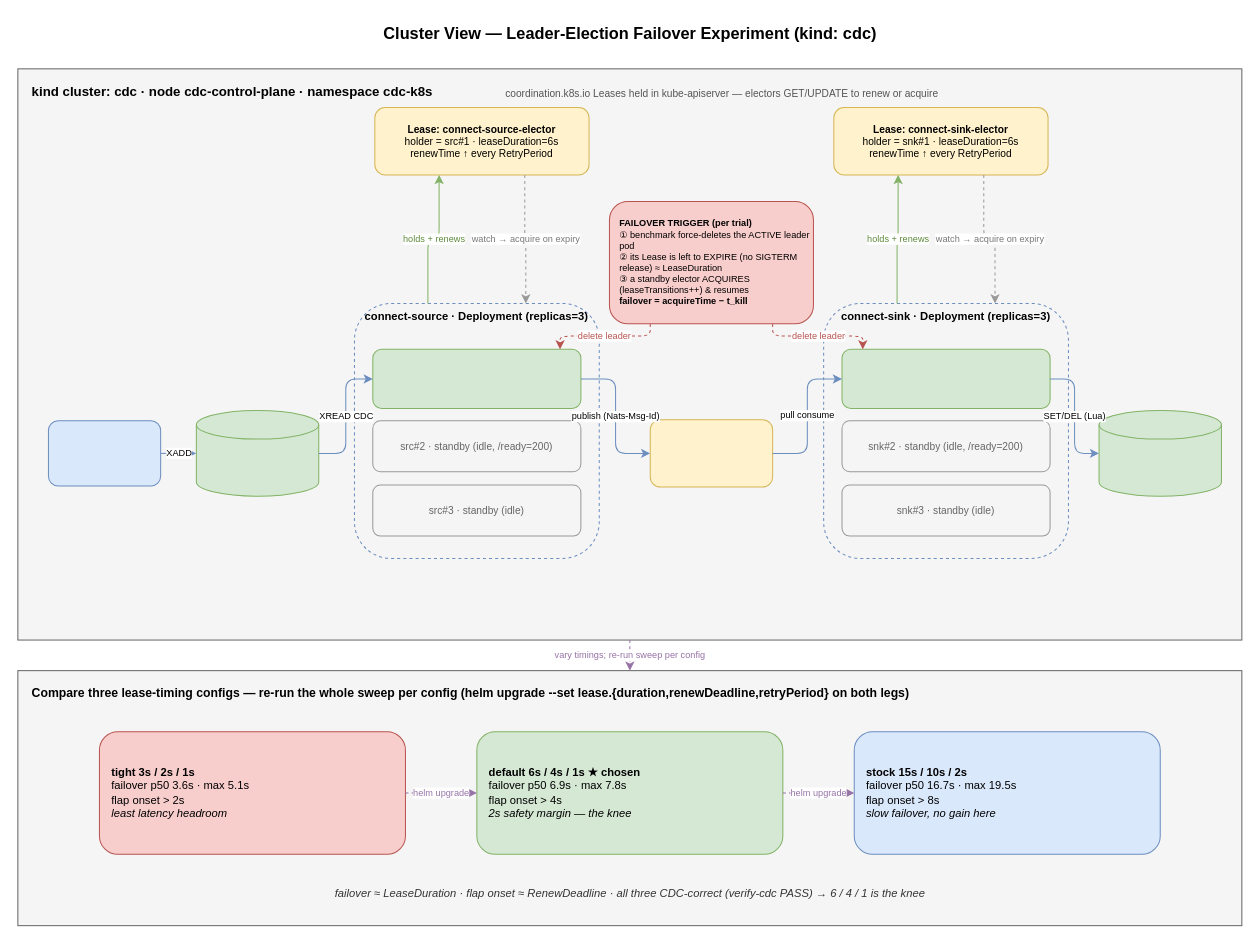
The diagram is 1260 pixels wide and 944 high, and some of its shapes have lost their labels. Here are the shapes that lost their labels. From the top down, the centre of each, then its label:
At [476,378]: "src#1 — LEADER (ACTIVE) connect + elector holds Lease → POSTs pipeline".
At [945,378]: "snk#1 — LEADER (ACTIVE) connect + elector holds Lease → binds pull consumer".
At [104,453]: "writer (load gen)".
At [257,453]: "redis-central CDC stream".
At [711,453]: "NATS JetStream dedup + pull consumer".
At [1159,453]: "redis-region KV target".
